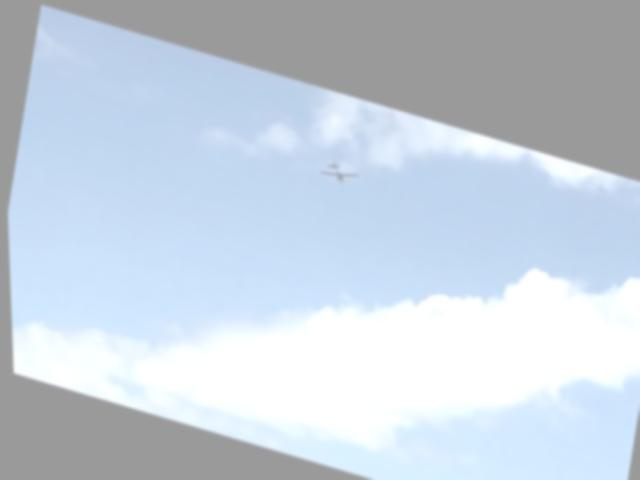uav: (312, 146, 362, 183)
